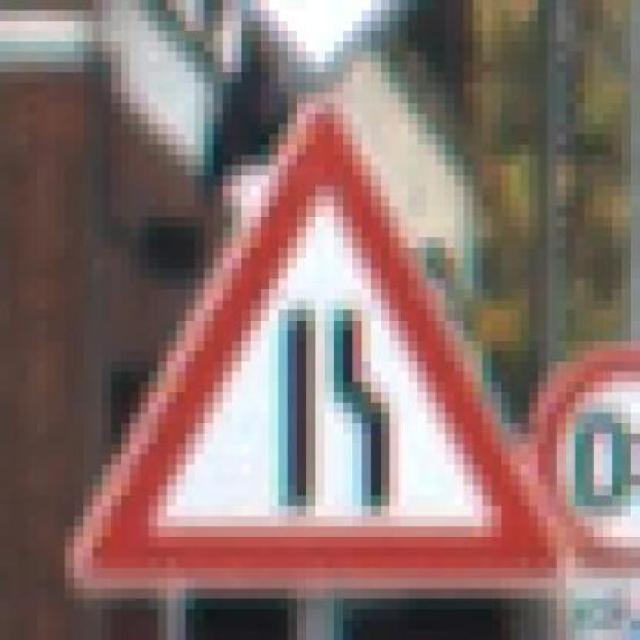-Road narrows on right: (46, 72, 566, 598)
